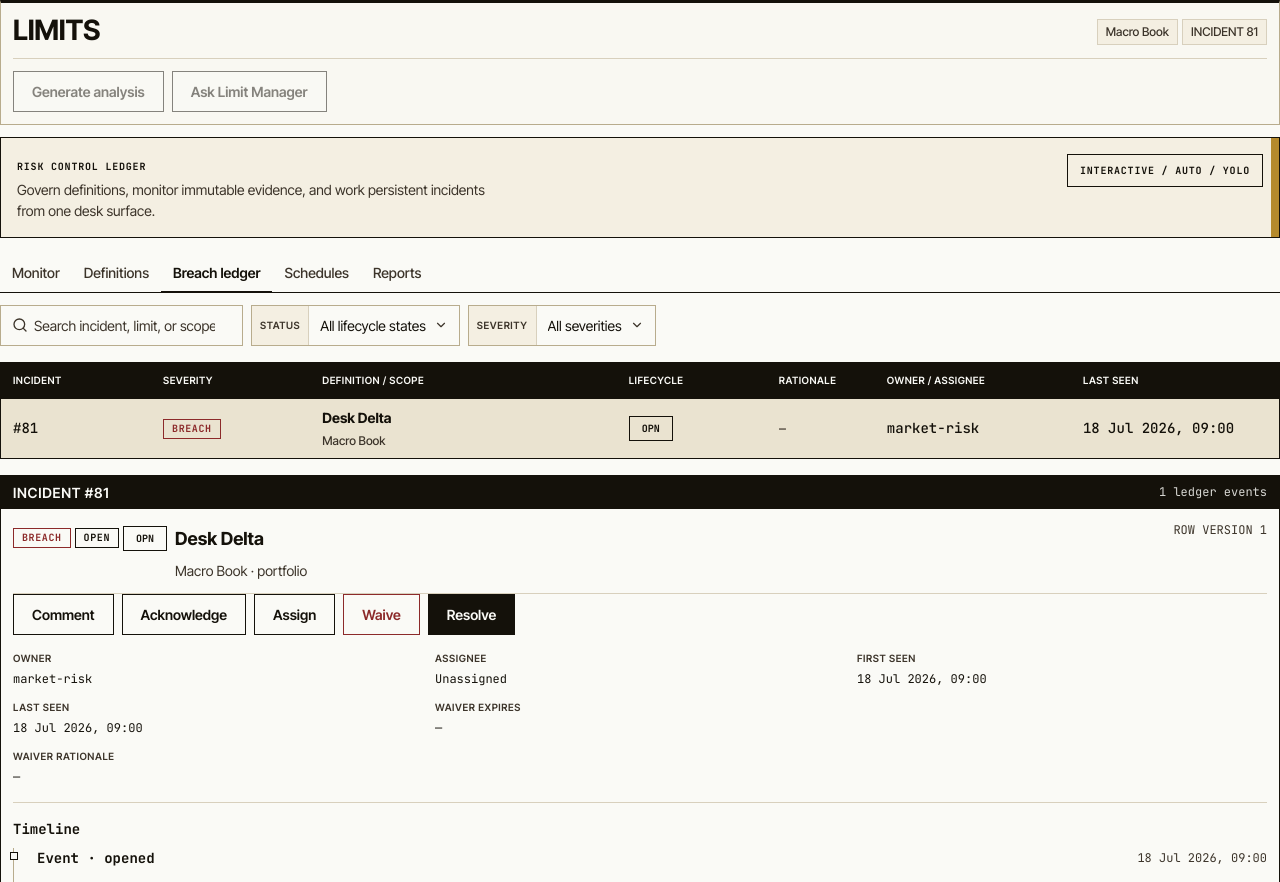
Test case: LimitsLive breaches › closes a stale incident action after a same-incident conflict refresh
Click the button "Assign". click: (295, 614)
box: [254,594,335,635]
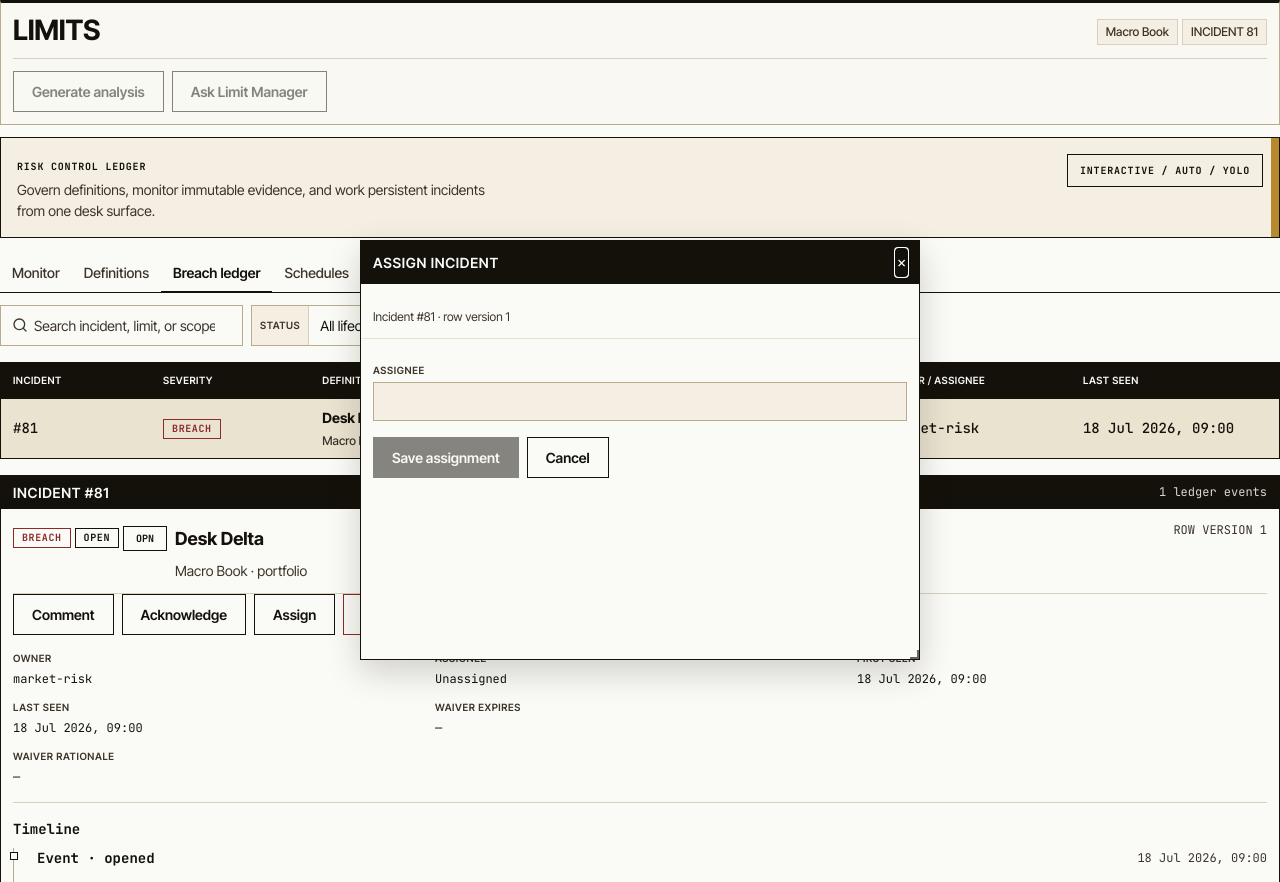
Type "alice" into the field labelled "Assignee". click: (640, 402)
box: [373,382,907,421]
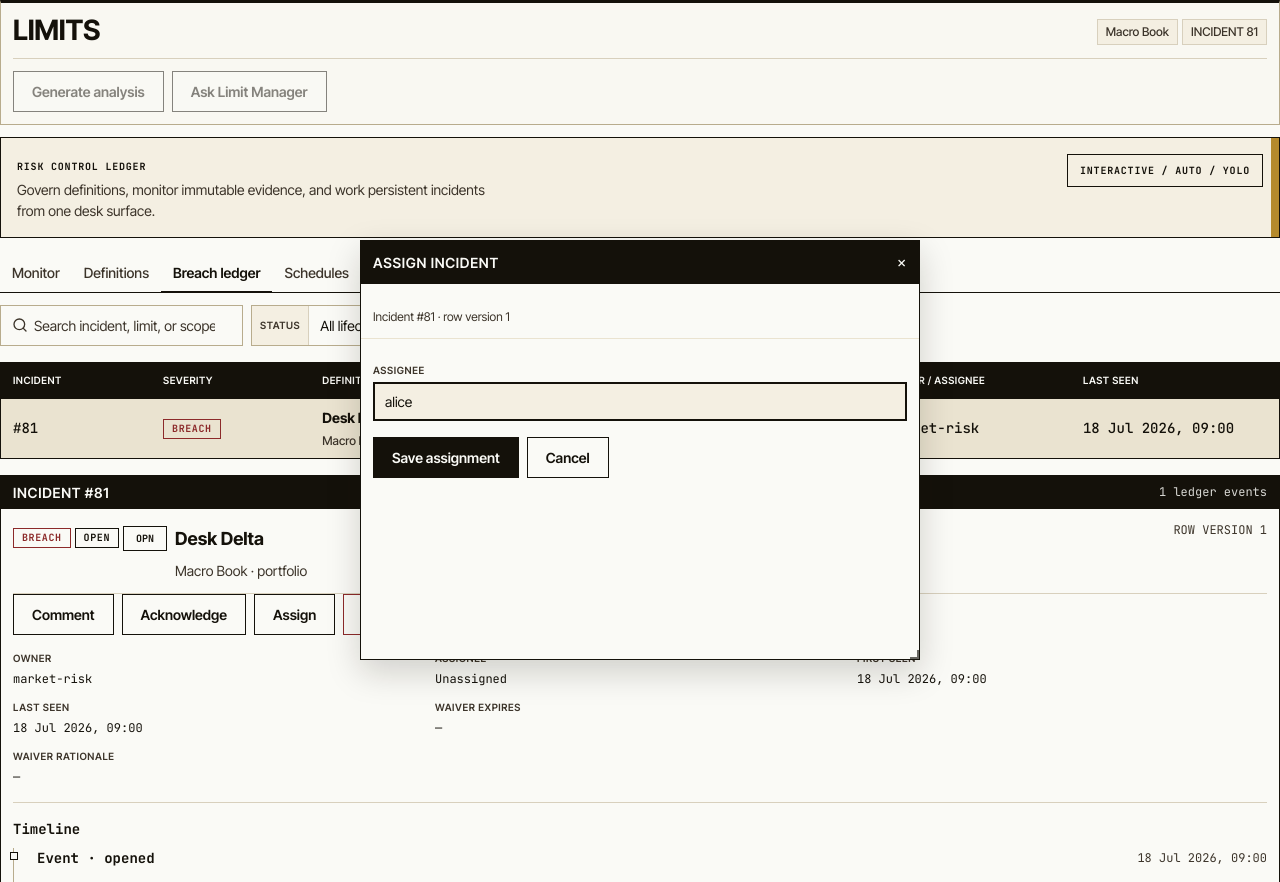
Click the button "Save assignment". click: (446, 458)
box: [373,437,519,478]
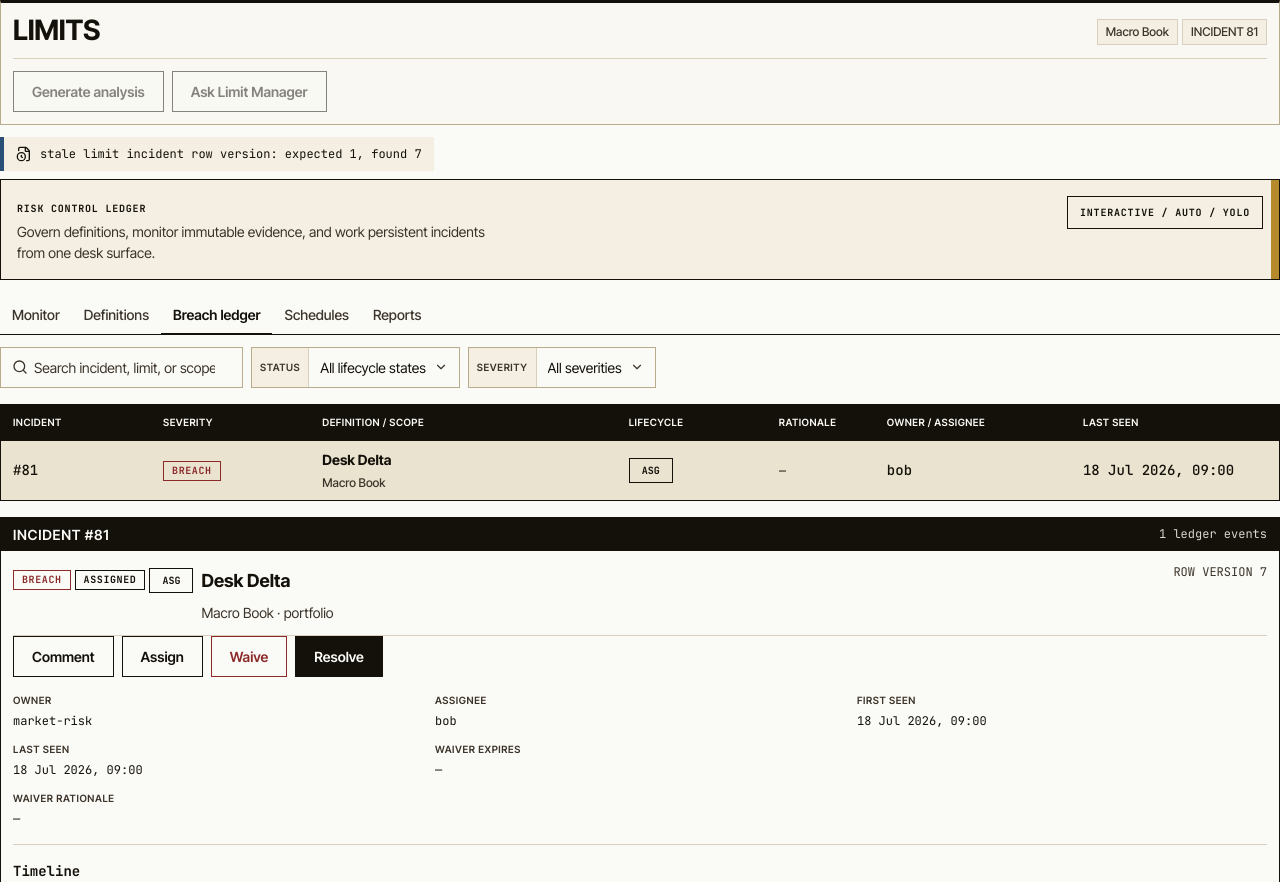
Expected: the text "stale limit incident row version: expected 1, found 7" is shown, [40,145,422,163]
Expected: the text "ROW VERSION 7" is shown, [1173,563,1267,581]
Expected: the heading "Assign incident" is gone
Click the button "Assign". click: (162, 656)
box: [122,636,203,677]
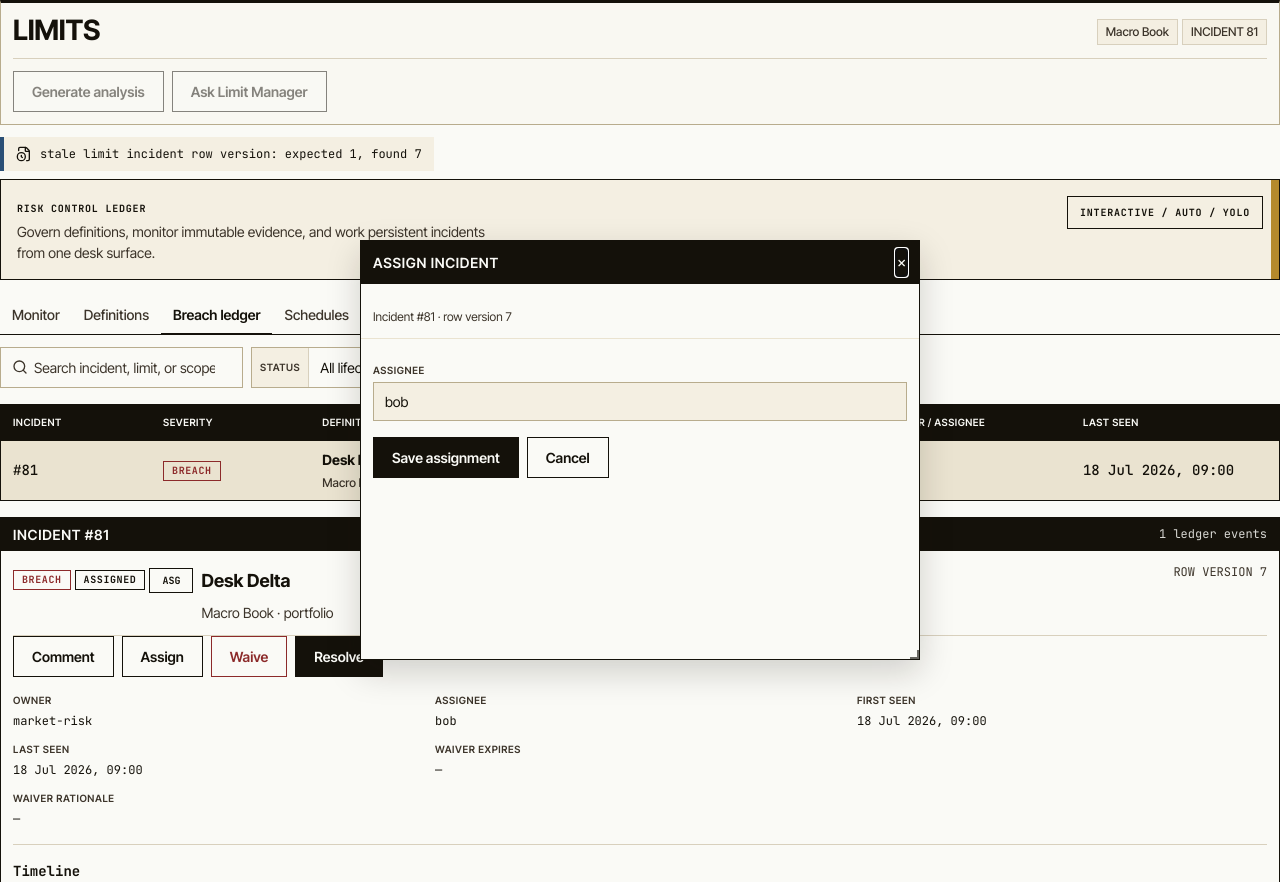
Expected: the field labelled "Assignee" holds "bob", [373,382,907,421]
